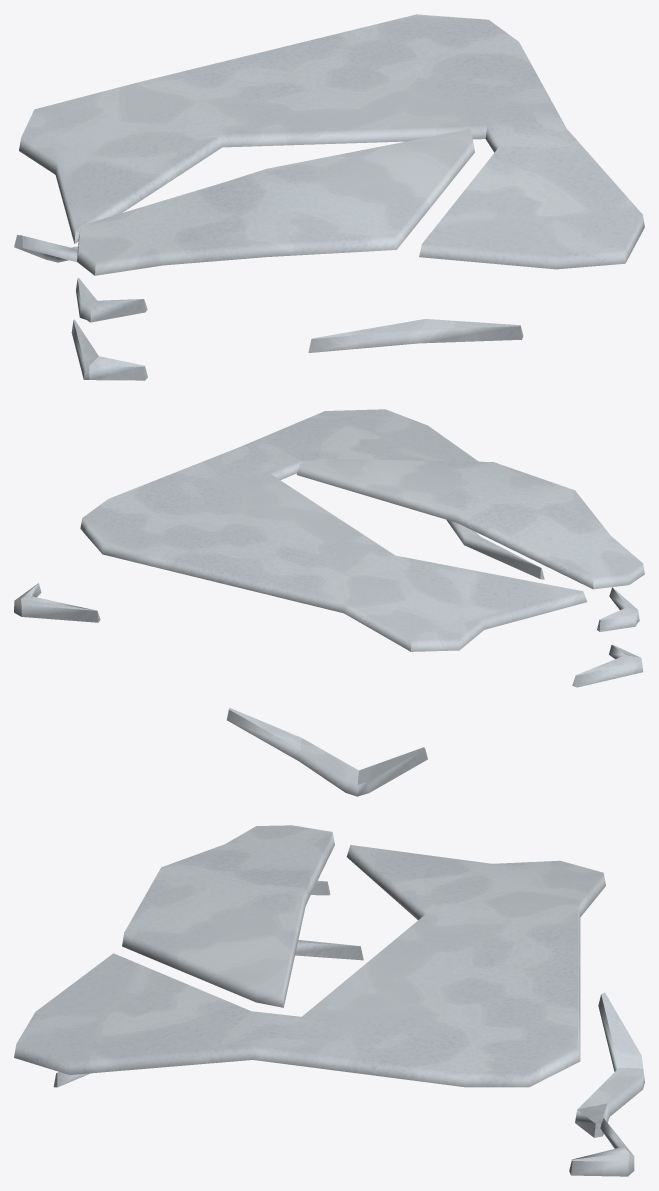
File: Boulder_6_Snow.fbx
3 views of the same model, one above another, from view 1: azimuth 30°, elevation 25°; view 2: azimuth 150°, elevation 25°; view 3: azimuth 270°, elevation 25° (orthographic). The views are drawn at different scales.
Parts seen in each view (by area): view 1: Boulder_6_Snow; view 2: Boulder_6_Snow; view 3: Boulder_6_Snow.
Part boxes in pixels (x1,y1,x2,y2): Boulder_6_Snow: (14, 14, 644, 380); Boulder_6_Snow: (14, 409, 644, 796); Boulder_6_Snow: (14, 825, 644, 1176).
Bounding box in the file's own units: 1260 × 434 × 1169.
